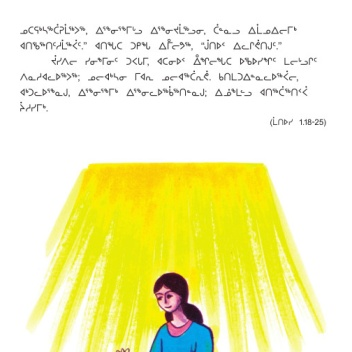inuktitut: (18, 21, 299, 38), (19, 83, 309, 98), (18, 68, 301, 83), (49, 53, 319, 68), (18, 38, 283, 53), (17, 99, 50, 114)
